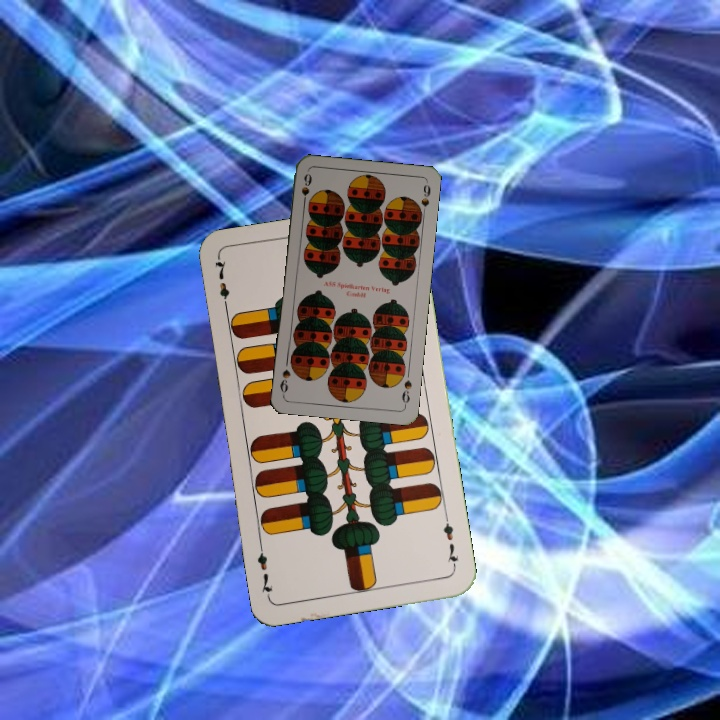E7: (439, 512, 462, 571), (210, 255, 233, 314)
S9: (297, 169, 314, 210), (398, 376, 415, 409)
